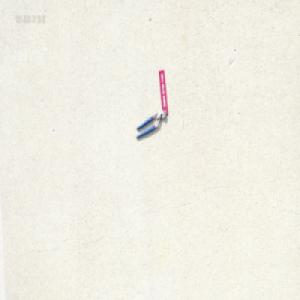Label: (157, 69, 168, 115)
Pliers: (135, 108, 166, 140)
